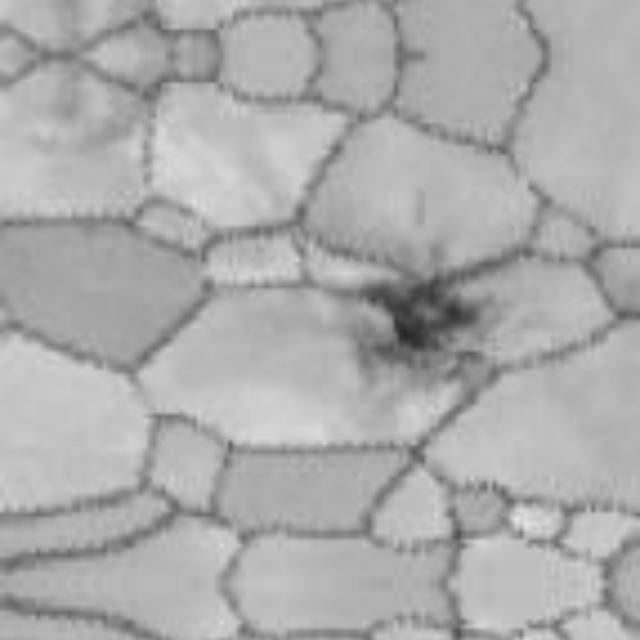good_void: (336, 248, 501, 395)
